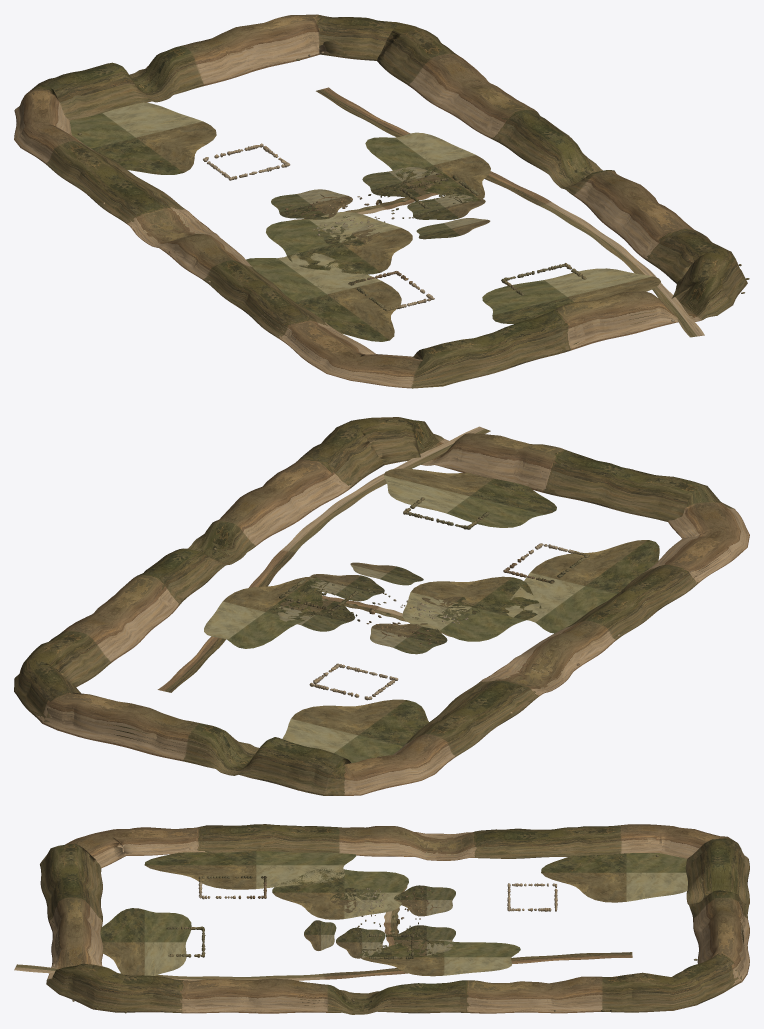
3 views of the same model, one above another, from view 1: azimuth 30°, elevation 25°; view 2: azimuth 150°, elevation 25°; view 3: azimuth 270°, elevation 25° (orthographic). The views are drawn at different scales.
Parts seen in each view (by area): view 1: Yuwang_battered_earthen_rampart, Far_Yuwang_battered_earthen_rampart, Far_Yuwang_meadow_wash_1, Far_Yuwang_meadow_wash_0, Far_Yuwang_meadow_wash_4, Far_Yuwang_meadow_wash_3, Far_Yuwang_meadow_wash_2, Far_Yuwang_winding_gate_path, Yuwang_foundations_and_selective_strata, Far_Shahu_leaf_litter_wash_0, Far_Shahu_leaf_litter_wash_1, Far_Shahu_leaf_litter_wash_3 (+3 smaller); view 2: Yuwang_battered_earthen_rampart, Far_Yuwang_battered_earthen_rampart, Far_Yuwang_meadow_wash_1, Far_Yuwang_meadow_wash_3, Far_Yuwang_meadow_wash_0, Far_Yuwang_meadow_wash_4, Far_Yuwang_meadow_wash_2, Far_Yuwang_winding_gate_path, Yuwang_foundations_and_selective_strata, Far_Shahu_leaf_litter_wash_0, Far_Shahu_leaf_litter_wash_1, Far_Shahu_leaf_litter_wash_3 (+3 smaller); view 3: Yuwang_battered_earthen_rampart, Far_Yuwang_battered_earthen_rampart, Far_Yuwang_meadow_wash_1, Far_Yuwang_meadow_wash_0, Far_Yuwang_meadow_wash_3, Far_Yuwang_meadow_wash_4, Far_Yuwang_meadow_wash_2, Far_Yuwang_winding_gate_path, Yuwang_foundations_and_selective_strata, Far_Shahu_leaf_litter_wash_0, Far_Shahu_leaf_litter_wash_1, Far_Shahu_leaf_litter_wash_3 (+4 smaller).
Boxes of the visible parts, x1,y1,x2,y2 form: Yuwang_battered_earthen_rampart: [14, 14, 747, 388]; Far_Yuwang_battered_earthen_rampart: [14, 14, 747, 388]; Far_Yuwang_meadow_wash_1: [246, 253, 401, 341]; Far_Yuwang_meadow_wash_0: [69, 102, 216, 174]; Far_Yuwang_meadow_wash_4: [266, 212, 412, 274]; Far_Yuwang_meadow_wash_3: [482, 268, 660, 323]; Far_Yuwang_meadow_wash_2: [365, 132, 490, 201]; Far_Yuwang_winding_gate_path: [316, 87, 704, 337]; Yuwang_foundations_and_selective_strata: [77, 51, 749, 361]; Far_Shahu_leaf_litter_wash_0: [271, 189, 352, 219]; Far_Shahu_leaf_litter_wash_1: [362, 167, 443, 197]; Far_Shahu_leaf_litter_wash_3: [407, 194, 485, 219]; Yuwang_battered_earthen_rampart: [14, 417, 749, 795]; Far_Yuwang_battered_earthen_rampart: [15, 417, 749, 795]; Far_Yuwang_meadow_wash_1: [505, 540, 659, 633]; Far_Yuwang_meadow_wash_3: [384, 468, 556, 527]; Far_Yuwang_meadow_wash_0: [282, 699, 428, 762]; Far_Yuwang_meadow_wash_4: [402, 576, 541, 641]; Far_Yuwang_meadow_wash_2: [204, 576, 322, 648]; Far_Yuwang_winding_gate_path: [157, 426, 490, 692]; Yuwang_foundations_and_selective_strata: [106, 497, 730, 762]; Far_Shahu_leaf_litter_wash_0: [370, 623, 447, 654]; Far_Shahu_leaf_litter_wash_1: [278, 600, 355, 631]; Far_Shahu_leaf_litter_wash_3: [310, 574, 384, 601]; Yuwang_battered_earthen_rampart: [40, 824, 749, 1014]; Far_Yuwang_battered_earthen_rampart: [40, 824, 749, 1014]; Far_Yuwang_meadow_wash_1: [144, 851, 355, 889]; Far_Yuwang_meadow_wash_0: [541, 853, 687, 902]; Far_Yuwang_meadow_wash_3: [100, 908, 191, 975]; Far_Yuwang_meadow_wash_4: [272, 869, 408, 919]; Far_Yuwang_meadow_wash_2: [359, 940, 520, 976]; Far_Yuwang_winding_gate_path: [14, 952, 632, 980]; Yuwang_foundations_and_selective_strata: [51, 854, 744, 1013]; Far_Shahu_leaf_litter_wash_0: [394, 885, 455, 916]; Far_Shahu_leaf_litter_wash_1: [394, 925, 455, 955]; Far_Shahu_leaf_litter_wash_3: [336, 927, 385, 958].
Bounding box in the file's own units: 74.03 × 5.43 × 125.
1 material, 1 textured.
